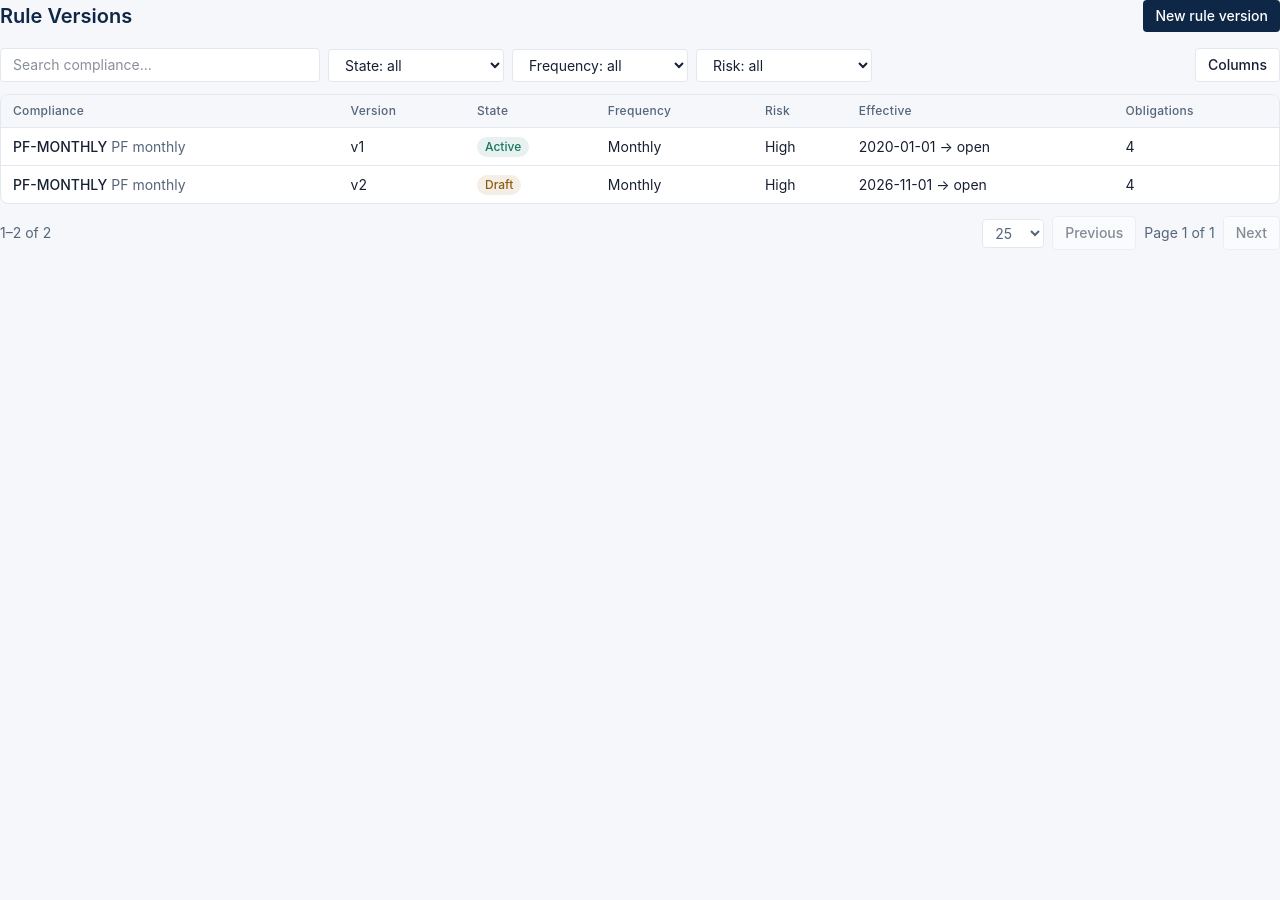
Test: Rule Versions › an ACTIVE version has no edit/activate controls: only "create a new version from this"
Click the text "v1" at [357, 146], box top-left (339, 128), bottom-right (465, 166)
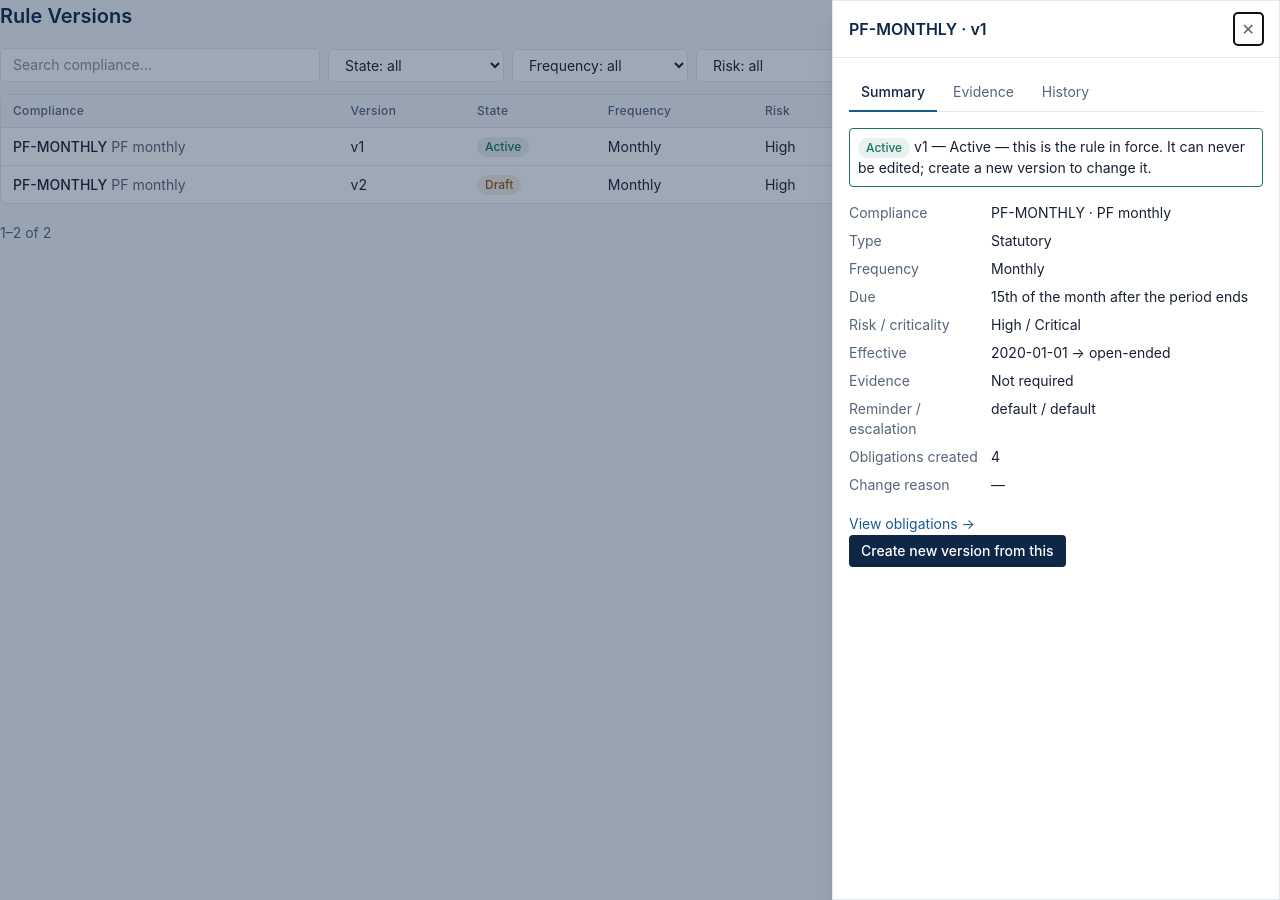
Check: the text "can never be edited" is shown, box top-left (858, 138), bottom-right (1245, 176)
Check: the button "Create new version from this" is shown, box top-left (849, 535), bottom-right (1066, 567)
Check: the text "15th of the month after the period ends" is shown, box top-left (991, 287), bottom-right (1263, 307)
